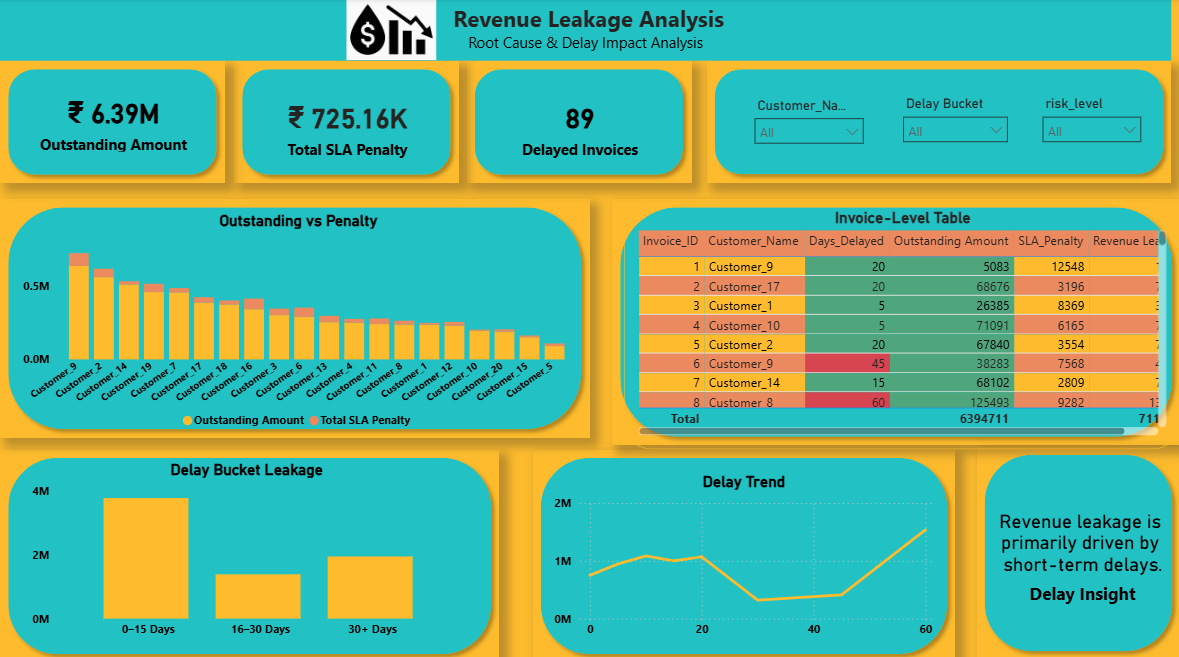

This screenshot's page, from the dashboard's own definition file:
{"tool":"powerbi","page":{"name":"Revenue Leakage Analysis","canvas":[1280,720],"ordinal":2},"visuals":[{"type":"shape","box":[663.6,218,616.5,266.8],"z":0},{"type":"shape","box":[1058.9,486.3,221.2,231],"z":1000},{"type":"shape","box":[766.1,68.3,504.2,131.8],"z":2000},{"type":"shape","box":[577.4,489.6,458.7,231],"z":3000},{"type":"shape","box":[0,489.6,541.6,231],"z":4000},{"type":"shape","box":[506.5,68,243.8,132.3],"z":7000},{"type":"shape","box":[253.2,68,243.8,132.3],"z":8000},{"type":"shape","box":[0,68,243.8,132.3],"z":9000},{"type":"clusteredColumnChart","title":" Delay Bucket Leakage","fields":{"Y":["revenue_processed.Revenue Leakage"],"Category":["revenue_processed.Delay Bucket"]},"box":[29.3,501,476.6,201.7],"z":10000},{"type":"shape","box":[0,218,639.2,258.6],"z":11000},{"type":"columnChart","title":"Outstanding vs Penalty","fields":{"Category":["revenue_processed.Customer_Name"],"Y":["revenue_processed.Outstanding Amount","revenue_processed.Total SLA Penalty"]},"box":[19.5,231,608.3,245.6],"z":12000},{"type":"lineChart","title":"Delay Trend ","fields":{"Category":["revenue_processed.Days_Delayed"],"Y":["revenue_processed.Revenue Leakage"]},"box":[595.3,514,422.9,188.7],"z":13000},{"type":"slicer","fields":{"Values":["revenue_processed.Customer_Name"]},"box":[808.4,102.5,138.3,63.4],"z":14000},{"type":"slicer","fields":{"Values":["revenue_processed.Delay Bucket"]},"box":[969.4,100.8,133.4,65.1],"z":15000},{"type":"slicer","fields":{"Values":["revenue_processed.risk_level"]},"box":[1120.7,100.8,126.9,65.1],"z":16000},{"type":"card","fields":{"Values":["revenue_processed.Delay Insight"]},"box":[1076.8,501,193.6,201.7],"z":17000},{"type":"textbox","box":[0,0,1269.9,68],"z":18000},{"type":"card","fields":{"Values":["revenue_processed.Outstanding Amount"]},"box":[35.9,96.4,173.9,75.6],"z":19000},{"type":"card","fields":{"Values":["revenue_processed.Total SLA Penalty"]},"box":[289.1,96.4,173.9,86.9],"z":20000},{"type":"card","fields":{"Values":["revenue_processed.Delayed Invoices"]},"box":[542.4,96.4,173.9,86.9],"z":21000},{"type":"tableEx","title":" Invoice-Level Table   ","fields":{"Values":["revenue_processed.Invoice_ID","revenue_processed.Customer_Name","revenue_processed.Days_Delayed","revenue_processed.Outstanding Amount","revenue_processed.SLA_Penalty","revenue_processed.Revenue Leakage"]},"box":[676.6,218,603.4,271.6],"z":24000},{"type":"image","box":[375.7,0,97.6,68.3],"z":24001}]}

Visuals, with their boxes in screenshot pixels (x1, y1, x2, y2), scaled from the page's 1280x720 canvas onto the 1179x657 screenshot:
shape: bbox=[611, 199, 1178, 442]
shape: bbox=[975, 444, 1178, 655]
shape: bbox=[706, 62, 1170, 183]
shape: bbox=[532, 447, 954, 656]
shape: bbox=[0, 447, 499, 656]
shape: bbox=[467, 62, 691, 183]
shape: bbox=[233, 62, 458, 183]
shape: bbox=[0, 62, 225, 183]
" Delay Bucket Leakage" clusteredColumnChart: bbox=[27, 457, 466, 641]
shape: bbox=[0, 199, 589, 435]
"Outstanding vs Penalty" columnChart: bbox=[18, 211, 578, 435]
"Delay Trend " lineChart: bbox=[548, 469, 938, 641]
slicer - revenue_processed.Customer_Name: bbox=[745, 94, 872, 151]
slicer - revenue_processed.Delay Bucket: bbox=[893, 92, 1016, 151]
slicer - revenue_processed.risk_level: bbox=[1032, 92, 1149, 151]
card - revenue_processed.Delay Insight: bbox=[992, 457, 1170, 641]
textbox: bbox=[0, 0, 1170, 62]
card - revenue_processed.Outstanding Amount: bbox=[33, 88, 193, 157]
card - revenue_processed.Total SLA Penalty: bbox=[266, 88, 426, 167]
card - revenue_processed.Delayed Invoices: bbox=[500, 88, 660, 167]
" Invoice-Level Table   " tableEx: bbox=[623, 199, 1178, 447]
image: bbox=[346, 0, 436, 62]
